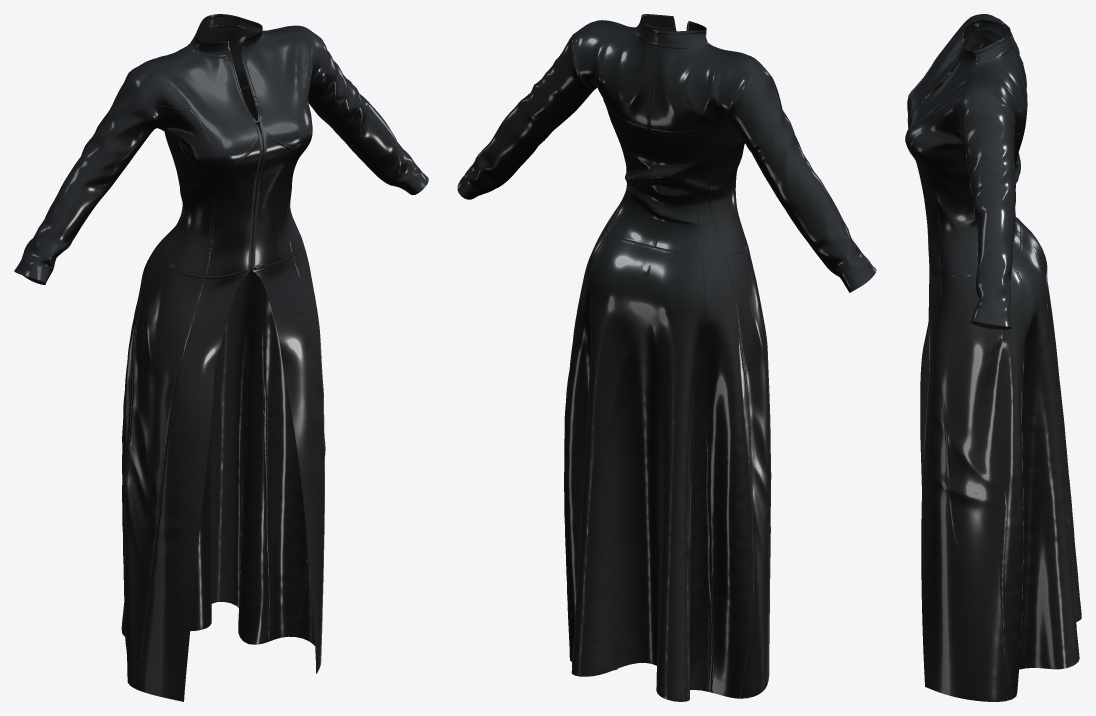
File: OBJ_Shiny Black Latex Leather Standing Collar Long Trinity Coat.obj
3 renders of one model, left to right at view 1: azimuth 30°, elevation 25°; view 2: azimuth 150°, elevation 25°; view 3: azimuth 270°, elevation 25°, orthographic. The views are drawn at different scales.
Visible parts, largest first — view 1: Trinity_Coat:Group1 Trinity_Coat:polySurface5 Trinity_Coat:polyS, Trinity_Coat:ZBrush_defualt_group Trinity_Coat:polySurface5 Trin, Trinity_Coat:Group3 Trinity_Coat:polySurface5 Trinity_Coat:polyS, Trinity_Coat:Group5 Trinity_Coat:polySurface5 Trinity_Coat:polyS, Trinity_Coat:Group4 Trinity_Coat:polySurface5 Trinity_Coat:polyS, Trinity_Coat:Group2 Trinity_Coat:polySurface5 Trinity_Coat:polyS, Trinity_Coat:Group6 Trinity_Coat:polySurface5 Trinity_Coat:polyS; view 2: Trinity_Coat:Group2 Trinity_Coat:polySurface5 Trinity_Coat:polyS, Trinity_Coat:Group3 Trinity_Coat:polySurface5 Trinity_Coat:polyS, Trinity_Coat:Group1 Trinity_Coat:polySurface5 Trinity_Coat:polyS, Trinity_Coat:Group5 Trinity_Coat:polySurface5 Trinity_Coat:polyS, Trinity_Coat:Group4 Trinity_Coat:polySurface5 Trinity_Coat:polyS, Trinity_Coat:ZBrush_defualt_group Trinity_Coat:polySurface5 Trin, Trinity_Coat:Group6 Trinity_Coat:polySurface5 Trinity_Coat:polyS; view 3: Trinity_Coat:ZBrush_defualt_group Trinity_Coat:polySurface5 Trin, Trinity_Coat:Group3 Trinity_Coat:polySurface5 Trinity_Coat:polyS, Trinity_Coat:Group4 Trinity_Coat:polySurface5 Trinity_Coat:polyS, Trinity_Coat:Group1 Trinity_Coat:polySurface5 Trinity_Coat:polyS, Trinity_Coat:Group2 Trinity_Coat:polySurface5 Trinity_Coat:polyS, Trinity_Coat:Group6 Trinity_Coat:polySurface5 Trinity_Coat:polyS, Trinity_Coat:Group5 Trinity_Coat:polySurface5 Trinity_Coat:polyS.
Part boxes in pixels (x1,y1,x2,y2): Trinity_Coat:Group1 Trinity_Coat:polySurface5 Trinity_Coat:polyS: [122, 52, 264, 701]; Trinity_Coat:ZBrush_defualt_group Trinity_Coat:polySurface5 Trin: [241, 26, 325, 673]; Trinity_Coat:Group3 Trinity_Coat:polySurface5 Trinity_Coat:polyS: [203, 25, 302, 643]; Trinity_Coat:Group5 Trinity_Coat:polySurface5 Trinity_Coat:polyS: [14, 69, 159, 284]; Trinity_Coat:Group4 Trinity_Coat:polySurface5 Trinity_Coat:polyS: [308, 32, 428, 194]; Trinity_Coat:Group2 Trinity_Coat:polySurface5 Trinity_Coat:polyS: [121, 28, 210, 636]; Trinity_Coat:Group6 Trinity_Coat:polySurface5 Trinity_Coat:polyS: [191, 14, 263, 55]; Trinity_Coat:Group2 Trinity_Coat:polySurface5 Trinity_Coat:polyS: [634, 44, 752, 701]; Trinity_Coat:Group3 Trinity_Coat:polySurface5 Trinity_Coat:polyS: [564, 22, 657, 676]; Trinity_Coat:Group1 Trinity_Coat:polySurface5 Trinity_Coat:polyS: [690, 43, 771, 698]; Trinity_Coat:Group5 Trinity_Coat:polySurface5 Trinity_Coat:polyS: [726, 69, 876, 292]; Trinity_Coat:Group4 Trinity_Coat:polySurface5 Trinity_Coat:polyS: [457, 29, 597, 199]; Trinity_Coat:ZBrush_defualt_group Trinity_Coat:polySurface5 Trin: [564, 20, 676, 661]; Trinity_Coat:Group6 Trinity_Coat:polySurface5 Trinity_Coat:polyS: [635, 14, 708, 46]; Trinity_Coat:ZBrush_defualt_group Trinity_Coat:polySurface5 Trin: [905, 51, 1023, 701]; Trinity_Coat:Group3 Trinity_Coat:polySurface5 Trinity_Coat:polyS: [962, 44, 1079, 669]; Trinity_Coat:Group4 Trinity_Coat:polySurface5 Trinity_Coat:polyS: [959, 99, 1016, 329]; Trinity_Coat:Group1 Trinity_Coat:polySurface5 Trinity_Coat:polyS: [907, 14, 986, 488]; Trinity_Coat:Group2 Trinity_Coat:polySurface5 Trinity_Coat:polyS: [981, 14, 1081, 621]; Trinity_Coat:Group6 Trinity_Coat:polySurface5 Trinity_Coat:polyS: [961, 19, 1012, 64]; Trinity_Coat:Group5 Trinity_Coat:polySurface5 Trinity_Coat:polyS: [960, 20, 1013, 56].
Bounding box in the file's own units: 102 × 155 × 39.42.
Materials: 1 (1 with a texture image).
